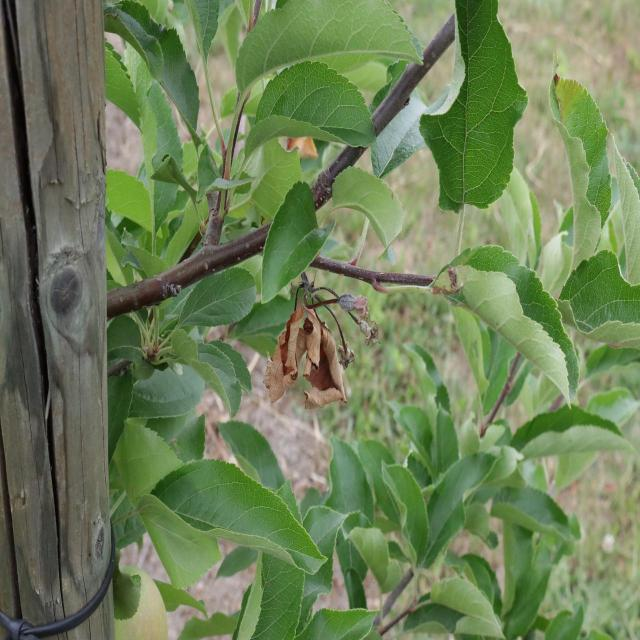-FireBlight-: (262, 288, 354, 406)
